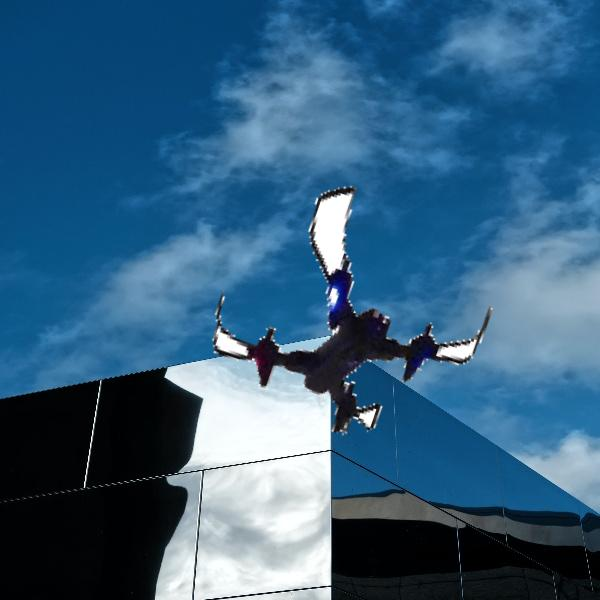drone: (220, 167, 500, 447)
